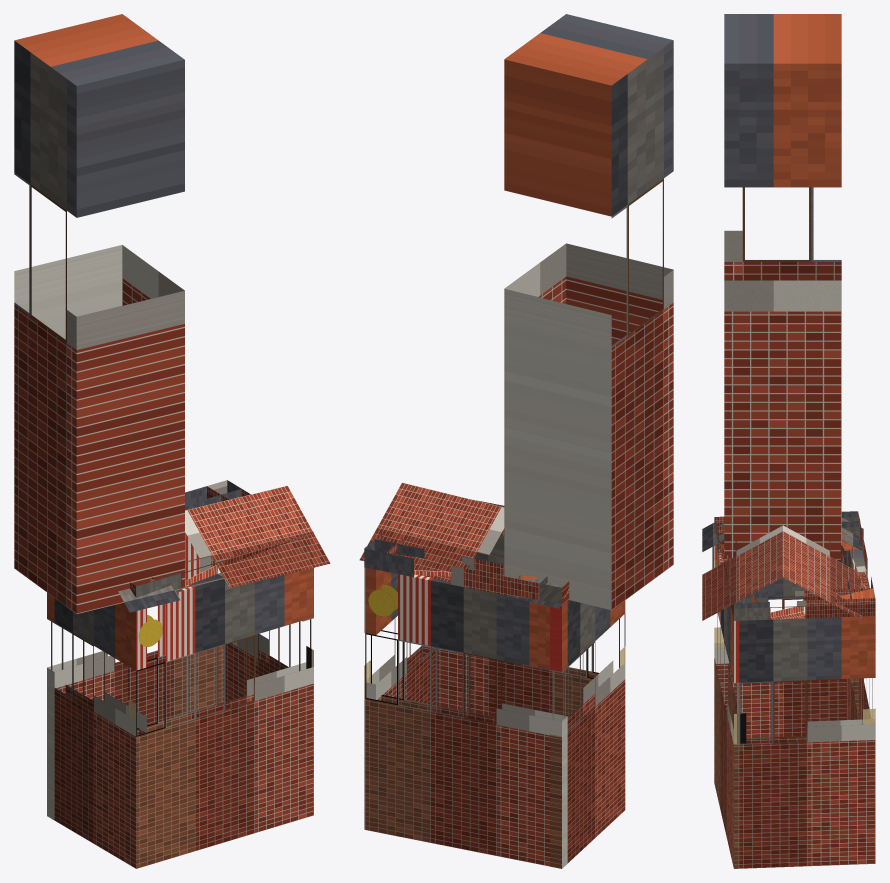
The picture shows the model from 3 angles, left to right: view 1: azimuth 30°, elevation 25°; view 2: azimuth 150°, elevation 25°; view 3: azimuth 270°, elevation 25°; orthographic projection. The views are drawn at different scales.
Visible parts, largest first — view 1: 238536139__chimney_0_xb, 238536139__wall_3_xb, 238536139__wall_2_xb, 238536139_roof_-1_xb, 238536139__wall_1_xb, 238536139__wall_0_xb, 238536139__cornice_3, 238536139__cornice_1; view 2: 238536139__chimney_0_xb, 238536139__wall_1_xb, 238536139__wall_2_xb, 238536139__wall_3_xb, 238536139_roof_1_xb, 238536139__cornice_1, 238536139__wall_0_xb; view 3: 238536139__chimney_0_xb, 238536139__wall_0_xb, 238536139__wall_2_xb, 238536139_roof_-1_xb, 238536139__wall_3_xb, 238536139_roof_1_xb, 238536139__cornice_0, 238536139__wall_1_xb, 238536139__cornice_1, 238536139__cornice_2, 238536139__wall_3_xf.
Part boxes in pixels (bbox=[...]): 238536139__chimney_0_xb: bbox=[14, 14, 184, 613]; 238536139__wall_3_xb: bbox=[128, 567, 313, 868]; 238536139__wall_2_xb: bbox=[47, 598, 146, 868]; 238536139_roof_-1_xb: bbox=[118, 485, 330, 612]; 238536139__wall_1_xb: bbox=[47, 532, 223, 820]; 238536139__wall_0_xb: bbox=[226, 617, 313, 701]; 238536139__cornice_3: bbox=[136, 532, 313, 597]; 238536139__cornice_1: bbox=[185, 480, 241, 510]; 238536139__chimney_0_xb: bbox=[504, 14, 673, 610]; 238536139__wall_1_xb: bbox=[364, 567, 567, 868]; 238536139__wall_2_xb: bbox=[550, 600, 625, 868]; 238536139__wall_3_xb: bbox=[422, 535, 625, 717]; 238536139_roof_1_xb: bbox=[359, 482, 569, 608]; 238536139__cornice_1: bbox=[364, 539, 569, 605]; 238536139__wall_0_xb: bbox=[365, 567, 434, 704]; 238536139__chimney_0_xb: bbox=[724, 14, 841, 559]; 238536139__wall_0_xb: bbox=[733, 616, 875, 868]; 238536139__wall_2_xb: bbox=[714, 544, 858, 738]; 238536139_roof_-1_xb: bbox=[702, 523, 782, 620]; 238536139__wall_3_xb: bbox=[714, 548, 746, 868]; 238536139_roof_1_xb: bbox=[783, 518, 863, 620]; 238536139__cornice_0: bbox=[732, 588, 875, 620]; 238536139__wall_1_xb: bbox=[846, 549, 875, 724]; 238536139__cornice_1: bbox=[840, 511, 873, 598]; 238536139__cornice_2: bbox=[714, 511, 860, 544]; 238536139__wall_3_xf: bbox=[714, 627, 745, 743].
Bounding box in the file's own units: 0.336 × 1.05 × 0.2213.
Materials: 1 (1 with a texture image).
